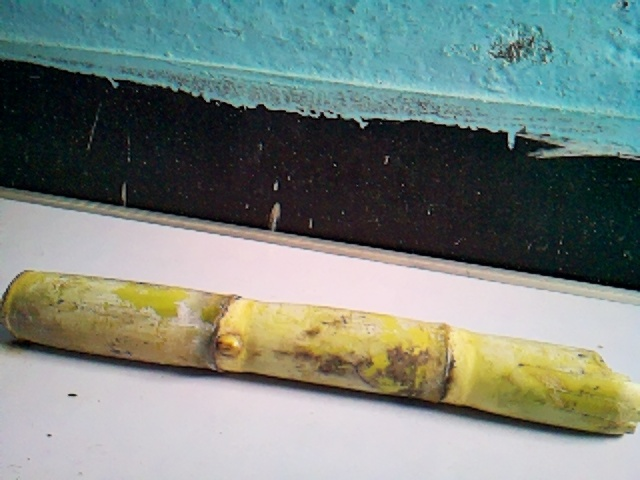Good Sugarcane: (2, 266, 640, 441)
Node: (421, 318, 473, 409), (202, 290, 254, 374)
